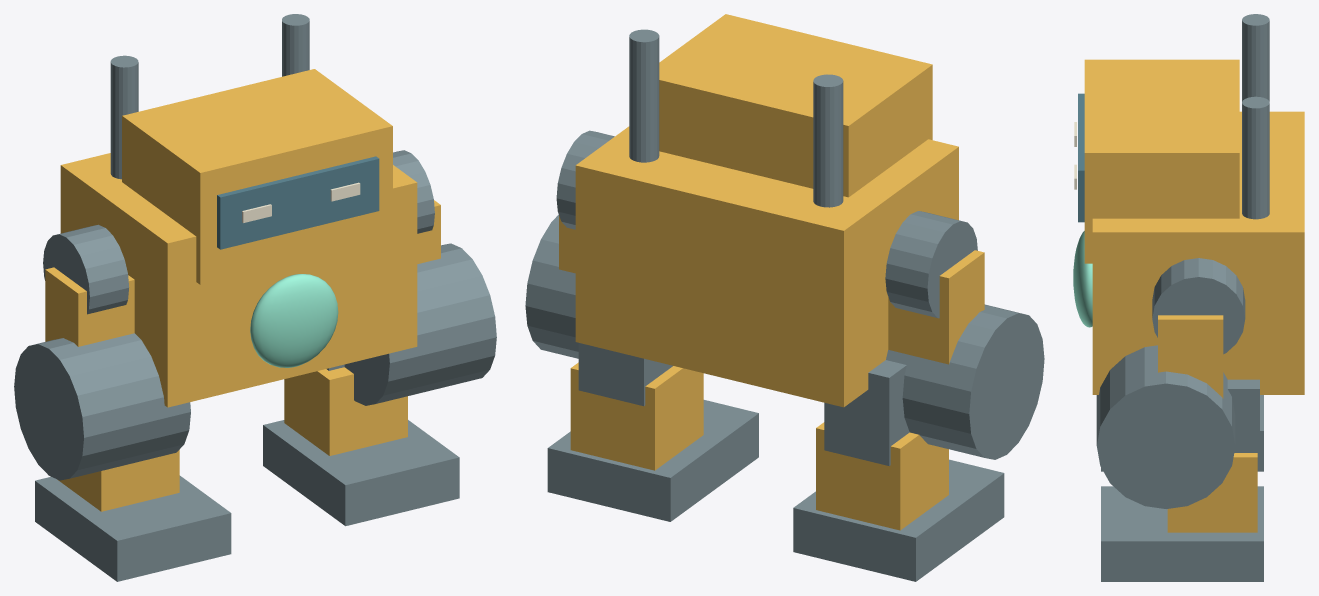
File: boss.glb
The picture shows the model from 3 angles, left to right: view 1: azimuth 30°, elevation 25°; view 2: azimuth 150°, elevation 25°; view 3: azimuth 270°, elevation 25°; orthographic projection. The views are drawn at different scales.
Visible parts, largest first — view 1: Engine, Cabin.002, Roller, Foot, Foot.001, Roller.001, Face visor, Shin.001, Core, Shoulder, Arm, Shin (+4 smaller); view 2: Engine, Cabin.002, Roller, Foot.001, Foot, Shin.001, Shin, Shoulder, Arm, Upper leg, Roller.001, Exhaust (+4 smaller); view 3: Engine, Cabin.002, Roller.001, Foot.001, Shoulder.001, Shin.001, Arm.001, Exhaust.001, Exhaust, Upper leg.001, Core, Face visor (+1 smaller).
Boxes of the visible parts, left/top/right/bottom form: Engine: left=60, top=153, right=417, bottom=407; Cabin.002: left=122, top=69, right=392, bottom=284; Roller: left=14, top=333, right=190, bottom=480; Foot: left=35, top=475, right=231, bottom=581; Foot.001: left=263, top=420, right=459, bottom=526; Roller.001: left=344, top=243, right=496, bottom=405; Face visor: left=217, top=156, right=379, bottom=249; Shin.001: left=284, top=367, right=407, bottom=455; Core: left=250, top=274, right=338, bottom=367; Shoulder: left=43, top=224, right=129, bottom=314; Arm: left=45, top=267, right=134, bottom=346; Shin: left=57, top=450, right=179, bottom=511; Engine: left=575, top=126, right=958, bottom=407; Cabin.002: left=659, top=14, right=932, bottom=197; Roller: left=886, top=304, right=1044, bottom=459; Foot.001: left=547, top=400, right=758, bottom=521; Foot: left=793, top=459, right=1004, bottom=581; Shin.001: left=570, top=362, right=703, bottom=470; Shin: left=816, top=422, right=948, bottom=530; Shoulder: left=885, top=211, right=977, bottom=318; Arm: left=888, top=250, right=984, bottom=364; Upper leg: left=824, top=360, right=909, bottom=465; Roller.001: left=525, top=214, right=578, bottom=358; Exhaust: left=813, top=74, right=843, bottom=207; Engine: left=1092, top=111, right=1304, bottom=394; Cabin.002: left=1084, top=59, right=1239, bottom=263; Roller.001: left=1096, top=345, right=1235, bottom=508; Foot.001: left=1101, top=486, right=1263, bottom=581; Shoulder.001: left=1152, top=258, right=1245, bottom=354; Shin.001: left=1167, top=453, right=1257, bottom=532; Arm.001: left=1158, top=315, right=1223, bottom=398; Exhaust.001: left=1242, top=96, right=1269, bottom=219; Exhaust: left=1242, top=14, right=1269, bottom=101; Upper leg.001: left=1227, top=379, right=1259, bottom=470; Core: left=1073, top=231, right=1092, bottom=327; Face visor: left=1078, top=93, right=1084, bottom=222.
Bounding box in the file's own units: 5.79 × 5.92 × 2.84.
